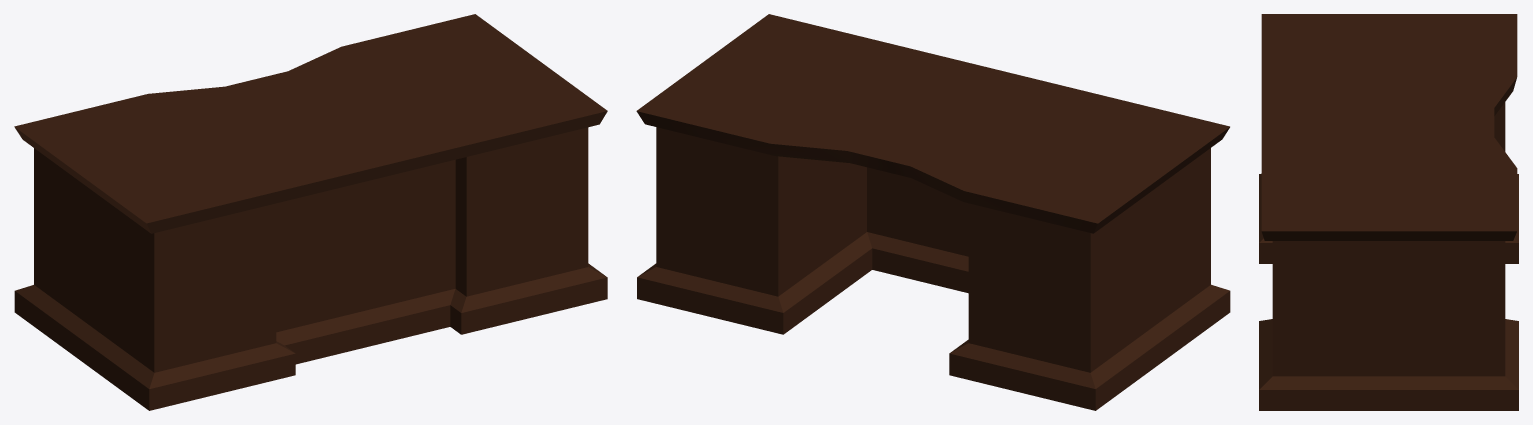
File: F_bossromm_desk.fbx
3 views of the same model, side by side, from view 1: azimuth 30°, elevation 25°; view 2: azimuth 150°, elevation 25°; view 3: azimuth 270°, elevation 25° (orthographic). The views are drawn at different scales.
Parts seen in each view (by area): view 1: boss_desk; view 2: boss_desk; view 3: boss_desk.
Boxes of the visible parts, x1=… form: boss_desk: x1=14, y1=14, x2=607, y2=410; boss_desk: x1=636, y1=14, x2=1230, y2=410; boss_desk: x1=1259, y1=14, x2=1518, y2=410.
Bounding box in the file's own units: 159 × 61.68 × 80.46.
